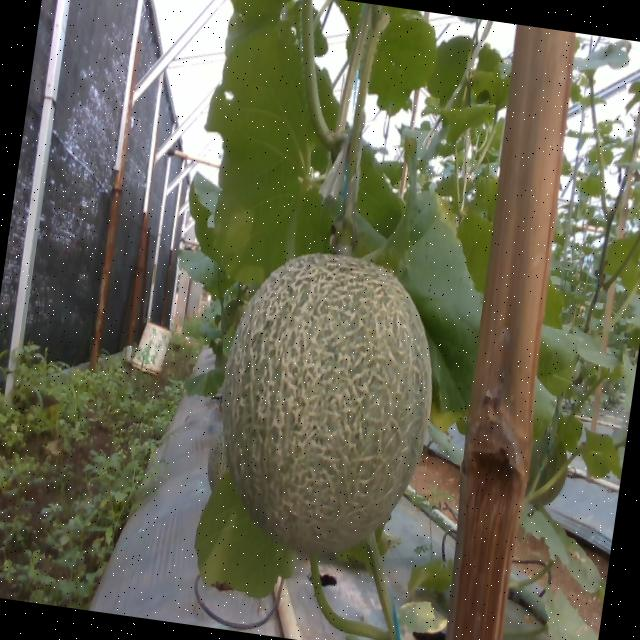melon: (223, 255, 433, 554)
